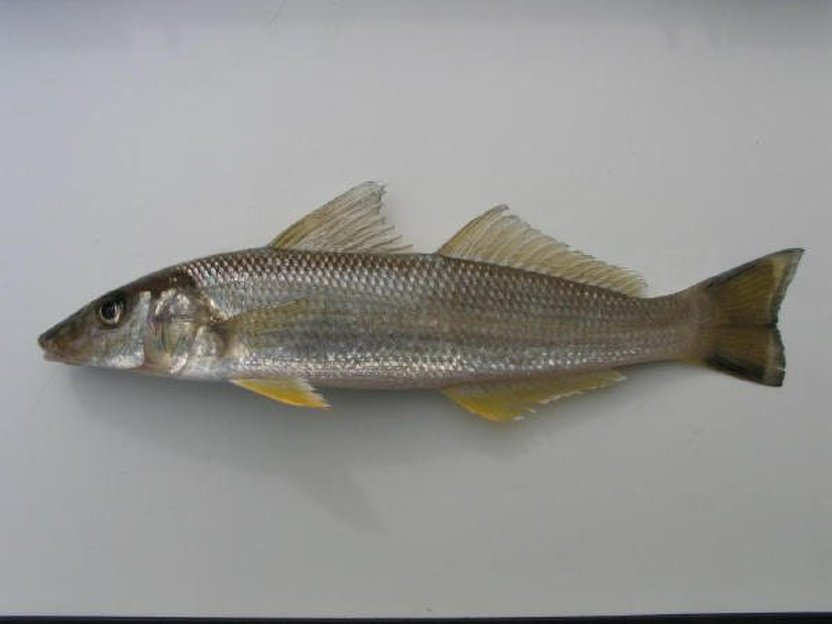kiss: (33, 227, 810, 452)
